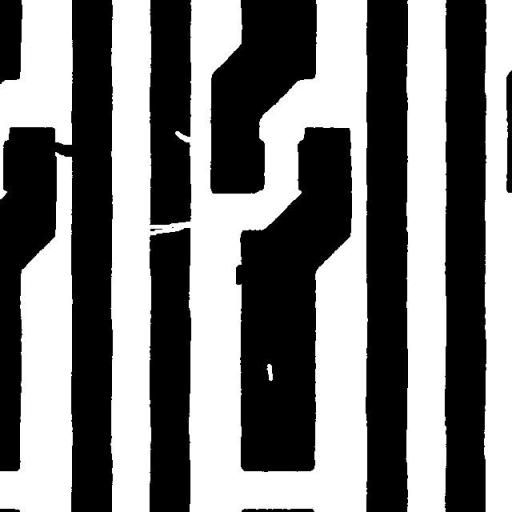mousebite: (167, 123, 199, 150)
open: (138, 214, 200, 242)
pin-hole: (258, 356, 280, 388)
short: (42, 134, 85, 164)
spur: (228, 257, 252, 292)
